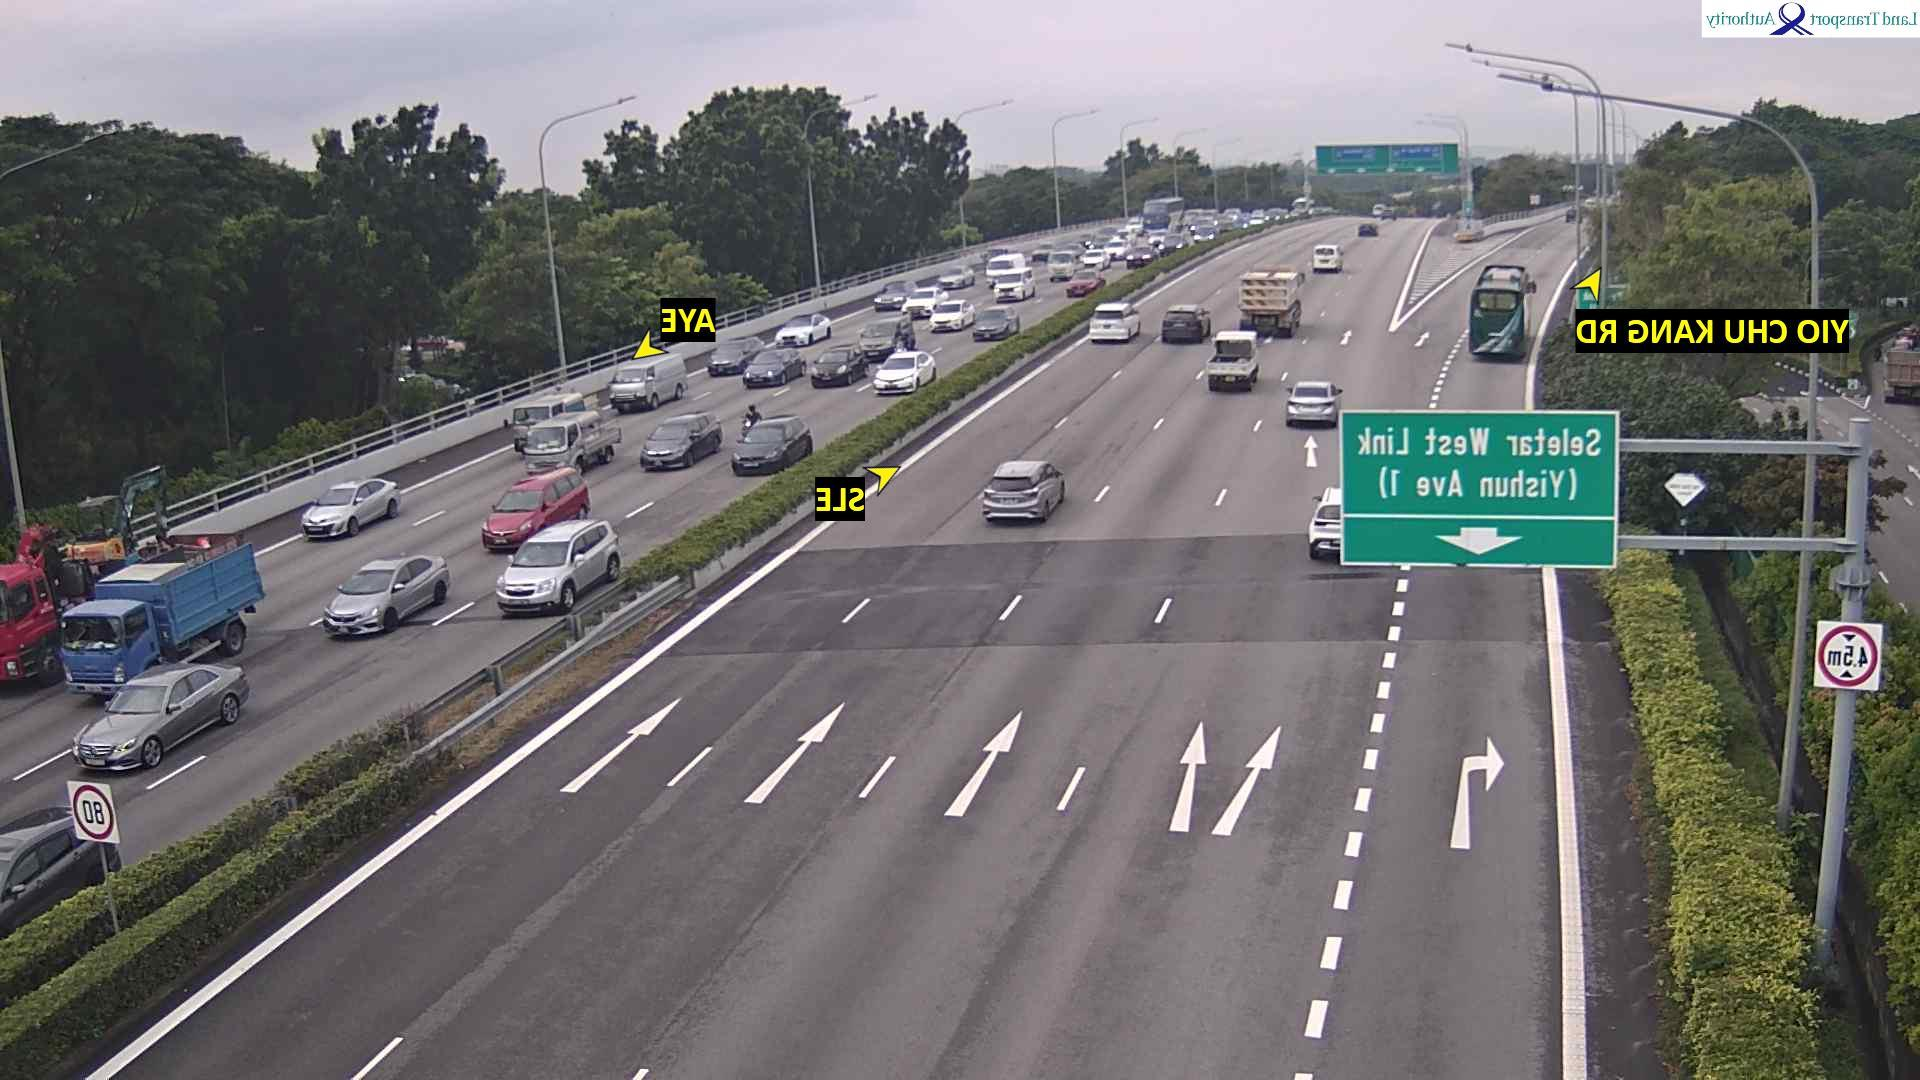bus: (1469, 263, 1533, 359), (1139, 195, 1188, 242)
cars: (74, 660, 252, 773), (1, 805, 122, 935), (496, 517, 622, 614), (323, 552, 452, 637), (481, 464, 593, 552), (301, 477, 402, 540), (522, 412, 623, 475), (505, 390, 601, 451), (981, 459, 1066, 523), (731, 413, 814, 476), (640, 410, 724, 471), (609, 353, 690, 412), (1207, 329, 1261, 391), (873, 348, 938, 394), (1286, 379, 1344, 426), (743, 346, 807, 387), (857, 315, 917, 358), (707, 334, 767, 376), (811, 343, 869, 386), (1309, 485, 1343, 558), (1089, 299, 1142, 342), (775, 311, 833, 347), (1162, 303, 1212, 343), (973, 306, 1022, 341), (984, 252, 1026, 291), (931, 297, 976, 332), (902, 285, 949, 318), (994, 267, 1037, 302), (873, 280, 913, 311), (1067, 271, 1107, 297), (1123, 245, 1162, 271), (1077, 247, 1112, 274), (938, 265, 976, 289), (1313, 243, 1344, 272), (1157, 235, 1189, 258), (977, 245, 1008, 267), (1187, 213, 1216, 236), (1103, 239, 1135, 258), (1029, 242, 1057, 262), (1354, 220, 1379, 242), (1194, 224, 1217, 245), (1124, 213, 1145, 236), (1561, 205, 1584, 226), (1060, 241, 1083, 259), (1112, 228, 1137, 244), (1263, 206, 1284, 224), (1381, 205, 1399, 223), (1221, 206, 1241, 222), (1370, 202, 1387, 219), (1076, 232, 1095, 244), (1248, 214, 1265, 227)
motorcycle: (739, 401, 766, 443)
trucks: (0, 456, 215, 697), (58, 539, 267, 701), (1239, 268, 1304, 337), (1885, 346, 1920, 403), (1048, 249, 1085, 283)
